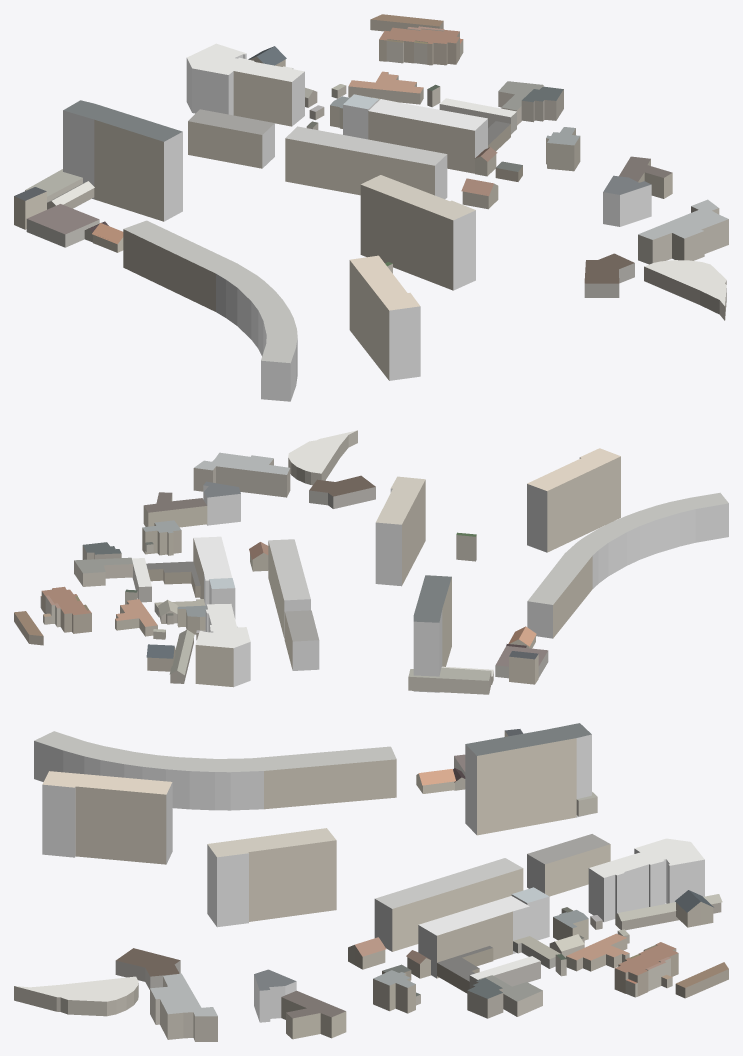
3 renders of one model, top to bottom at view 1: azimuth 30°, elevation 25°; view 2: azimuth 150°, elevation 25°; view 3: azimuth 270°, elevation 25°, orthographic. The views are drawn at different scales.
Visible parts, largest first — view 1: tuile; view 2: tuile; view 3: tuile.
Boxes of the visible parts, left/top/right/bottom form: tuile: left=14, top=14, right=728, bottom=401; tuile: left=14, top=430, right=728, bottom=694; tuile: left=14, top=723, right=728, bottom=1041.
Bounding box in the file's own units: 239 × 40.08 × 273.
